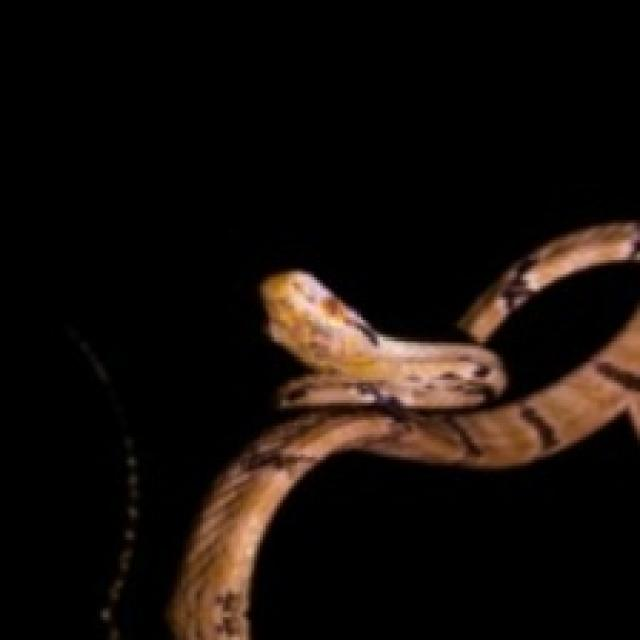dog-toothed cat snake: (169, 223, 637, 637)
